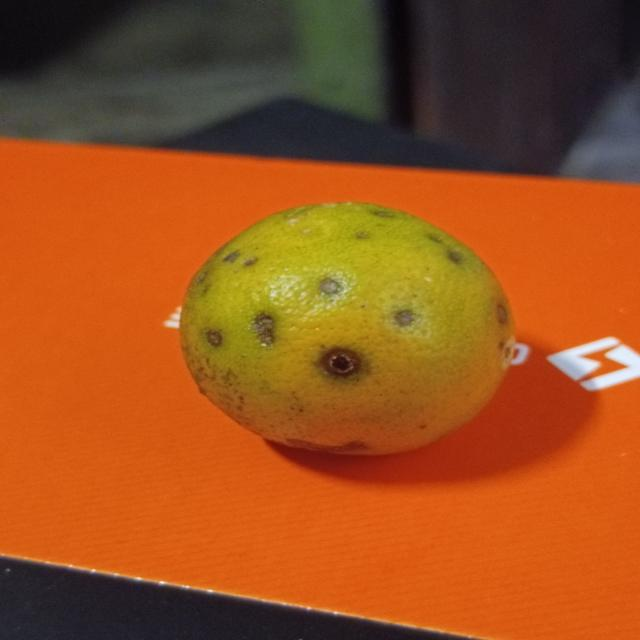black spot: (186, 200, 517, 467)
